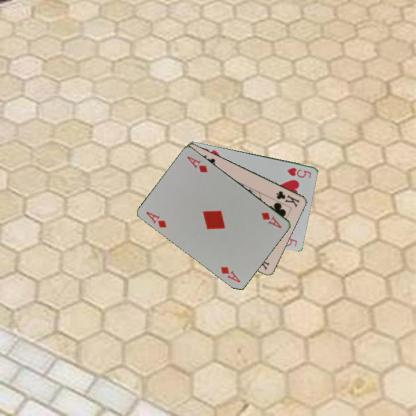5h: (285, 165, 312, 179)
Ad: (144, 208, 168, 228), (259, 210, 283, 229)
Kc: (274, 187, 301, 208)
